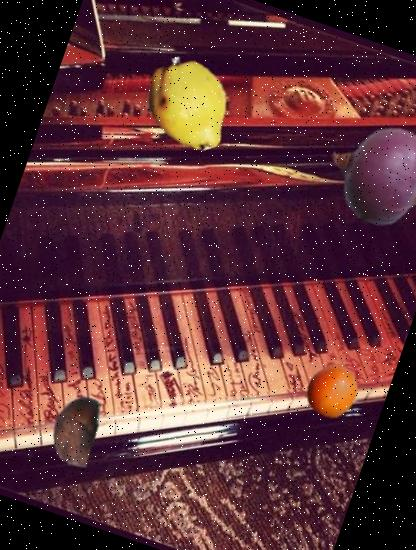Apricot: (298, 356, 366, 425)
Chestnut: (28, 383, 122, 476)
Onion: (310, 98, 416, 253)
Quince: (126, 43, 250, 166)
